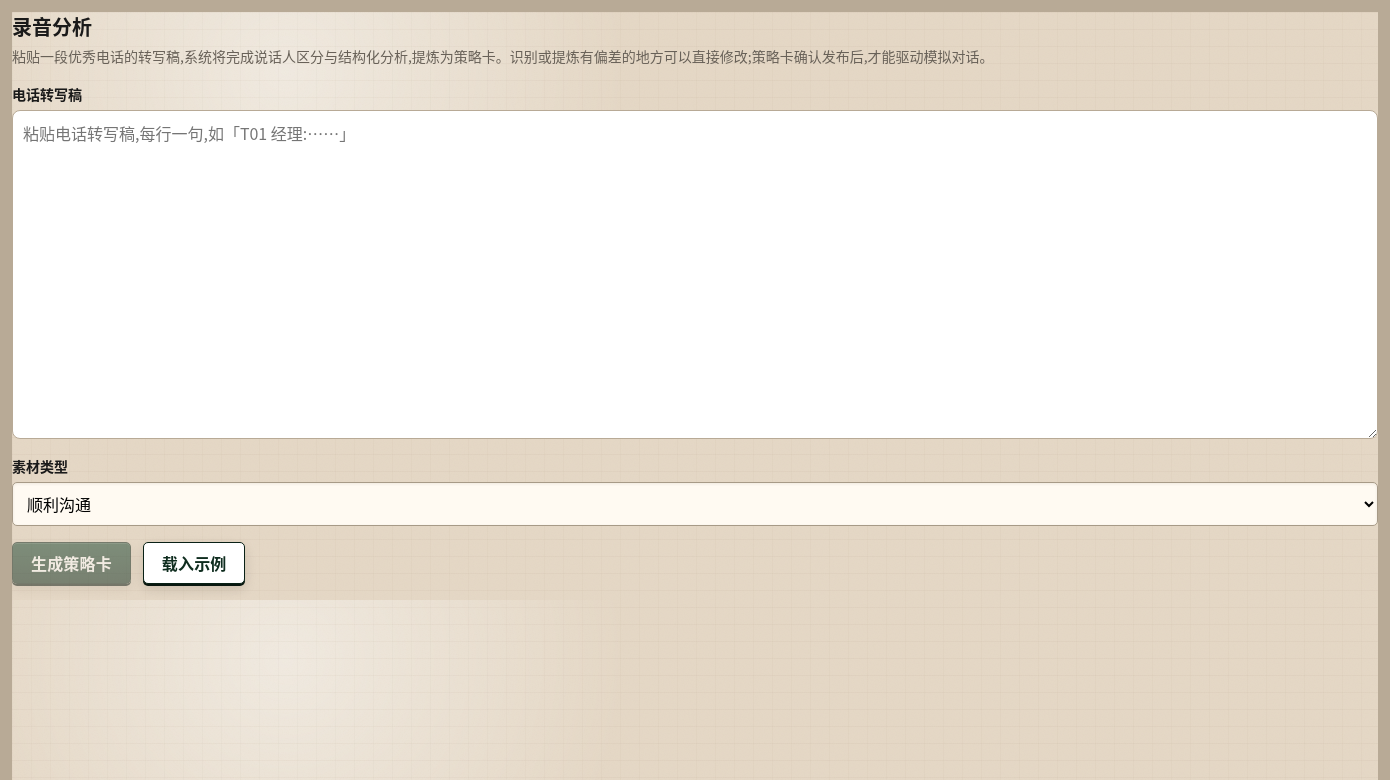
Test: 加载提示 › 素材步:分析期间显示「正在分析转写稿」
Click the button "载入示例": [194, 563] box [143,542,245,584]
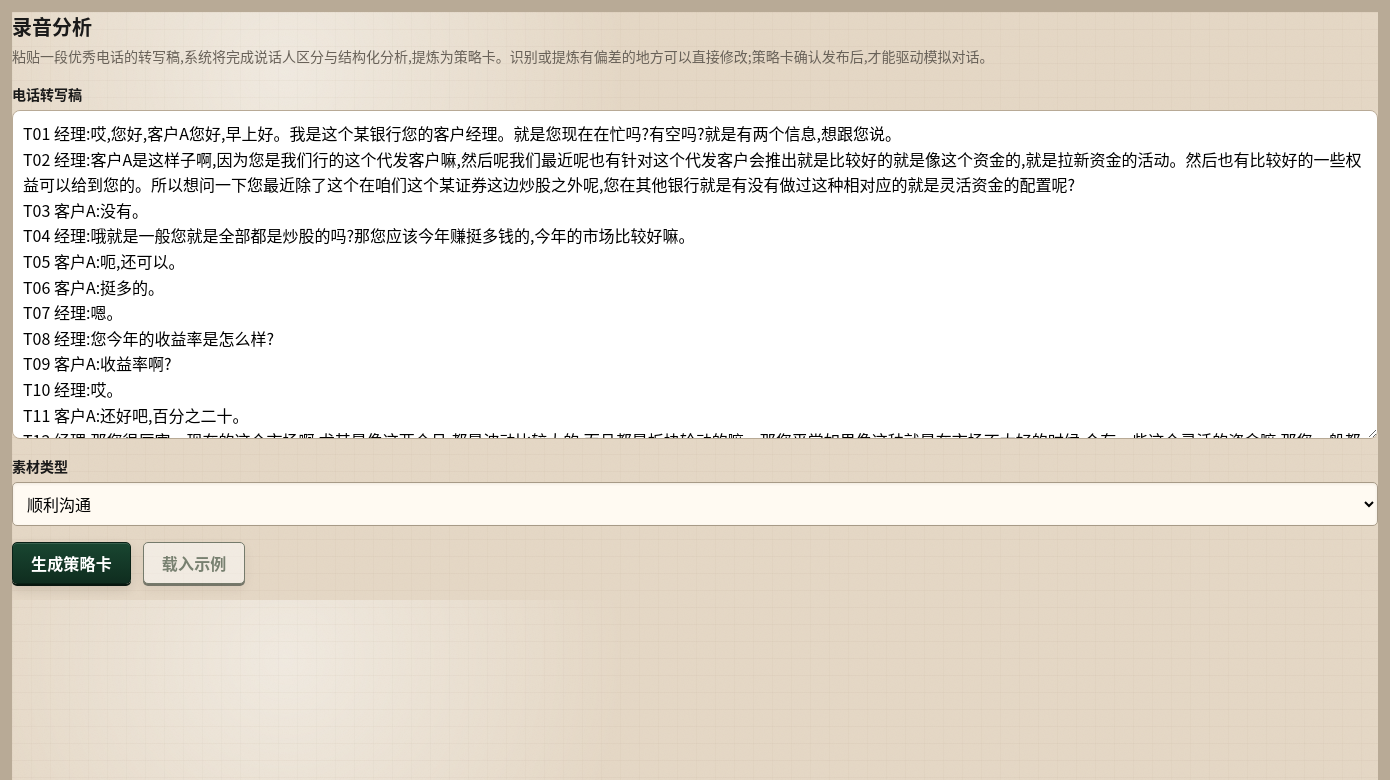
Click the button "生成策略卡": [71, 563] box [12,542,131,584]
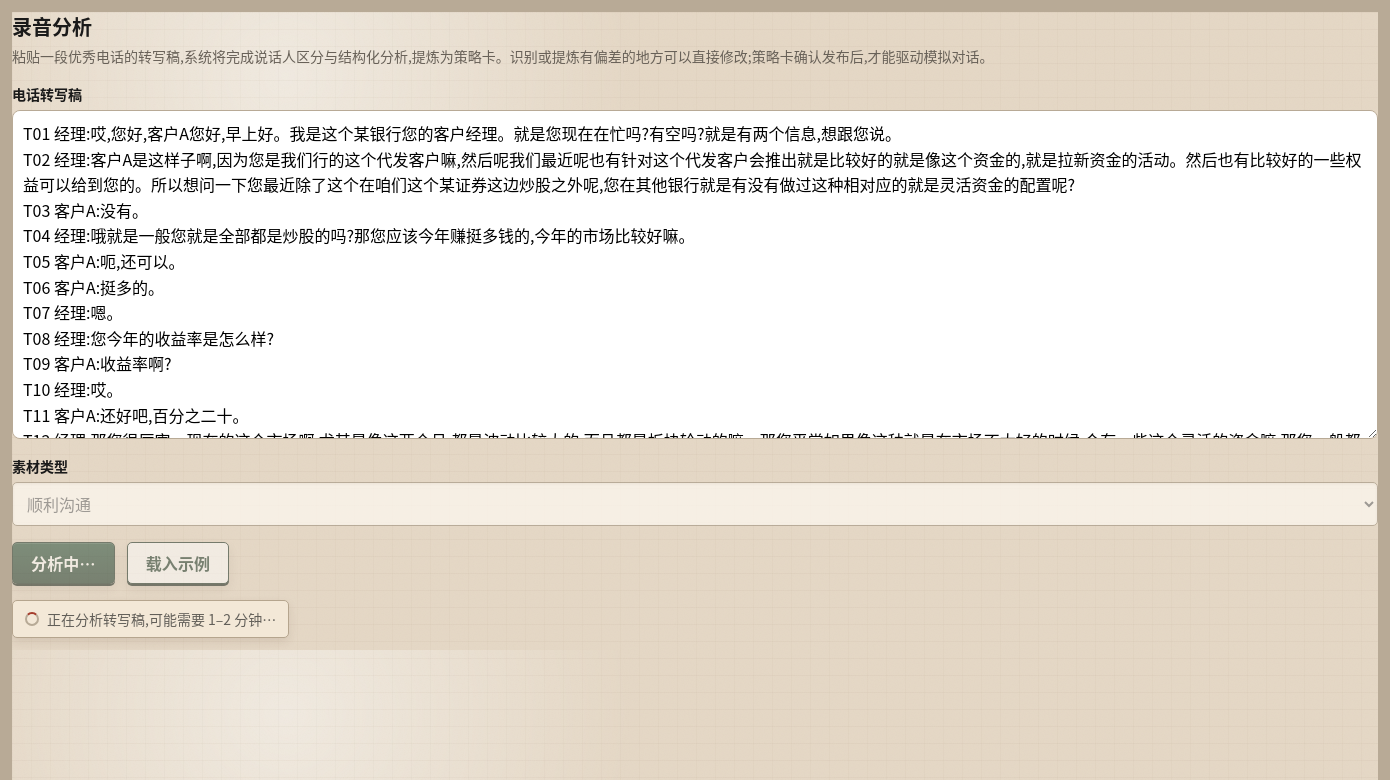
Expected: the message reads "正在分析转写稿,可能需要 1–2 分钟…", [47,609,276,629]
